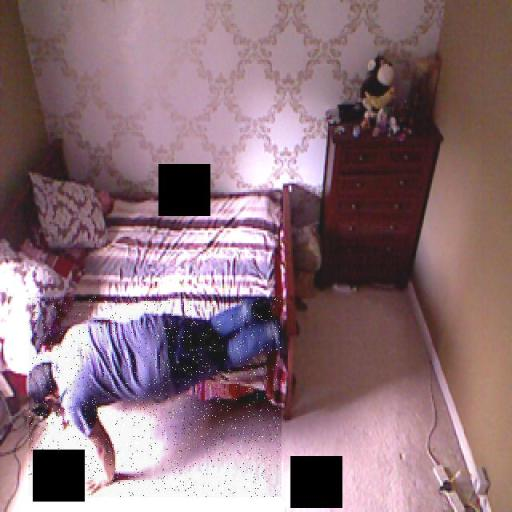Fall: (29, 297, 282, 497)
